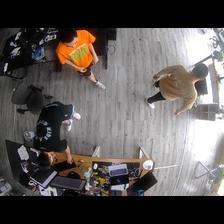normal: (146, 59, 210, 115), (53, 30, 107, 92), (32, 99, 79, 165)
